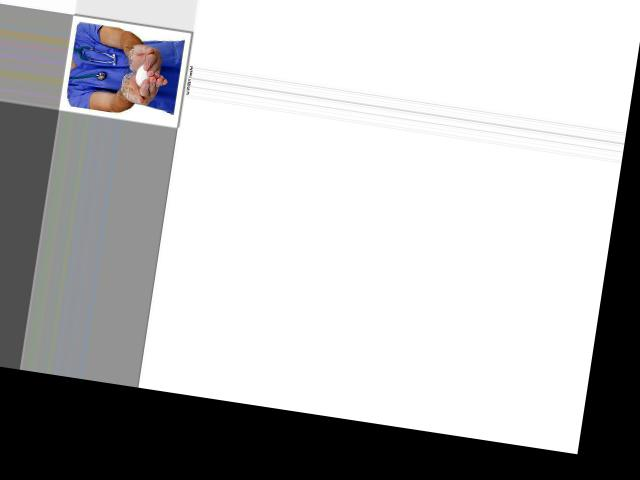egg: (134, 63, 151, 86)
